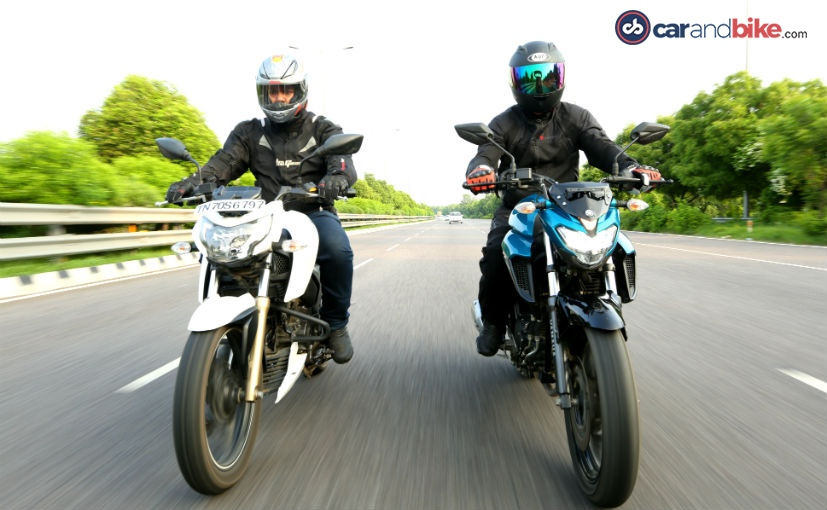helmet: (502, 41, 572, 112), (248, 53, 317, 124)
